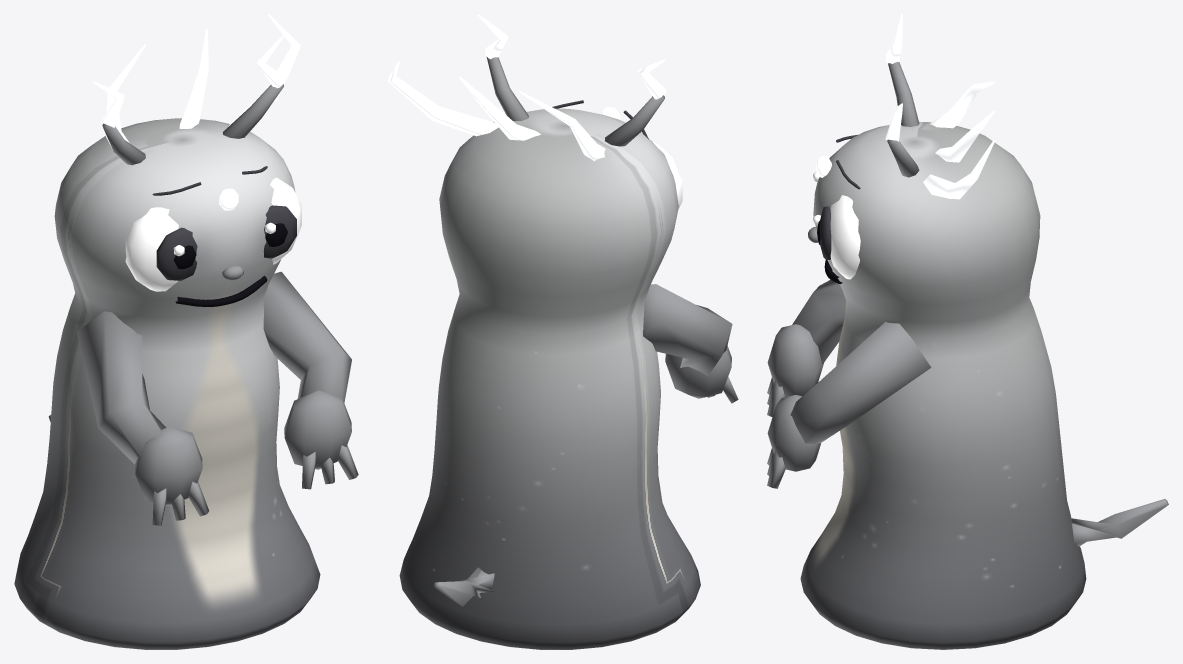
Rendered from rafaga_pixar.glb.
3 views of the same model, side by side, from view 1: azimuth 30°, elevation 25°; view 2: azimuth 150°, elevation 25°; view 3: azimuth 270°, elevation 25° (orthographic). The views are drawn at different scales.
Parts seen in each view (by area): view 1: rafaga_cuerpo; view 2: rafaga_cuerpo; view 3: rafaga_cuerpo.
Boxes of the visible parts, left/top/right/bottom form: rafaga_cuerpo: left=14, top=14, right=358, bottom=649; rafaga_cuerpo: left=387, top=14, right=738, bottom=649; rafaga_cuerpo: left=767, top=14, right=1168, bottom=649.
Bounding box in the file's own units: 0.3135 × 0.58 × 0.3978.
5 materials, 1 textured.
